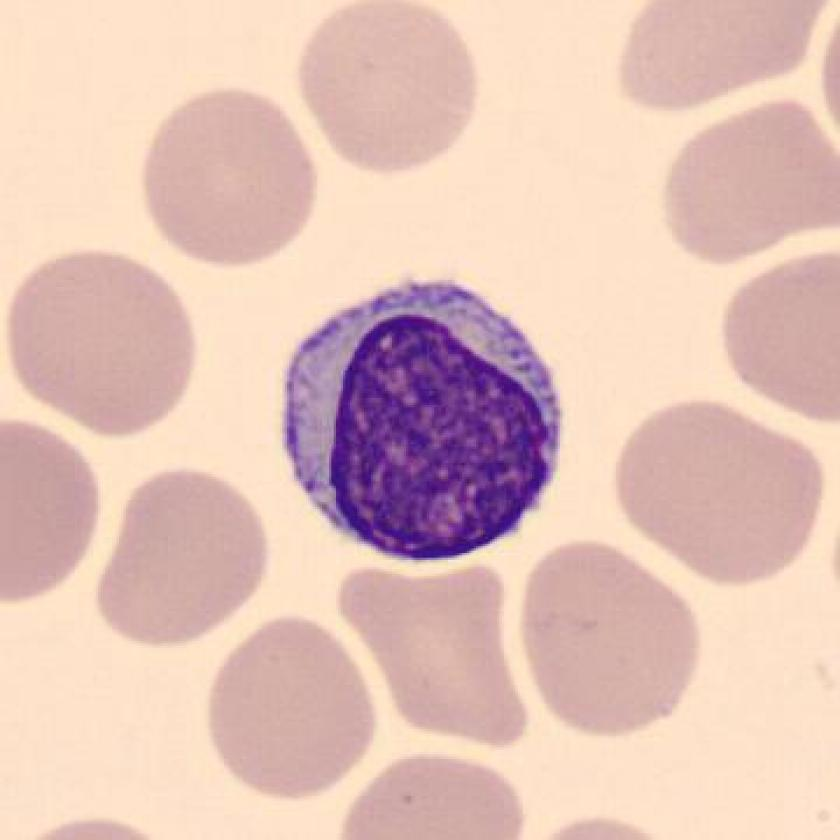lymphocyte: (265, 267, 587, 580)
